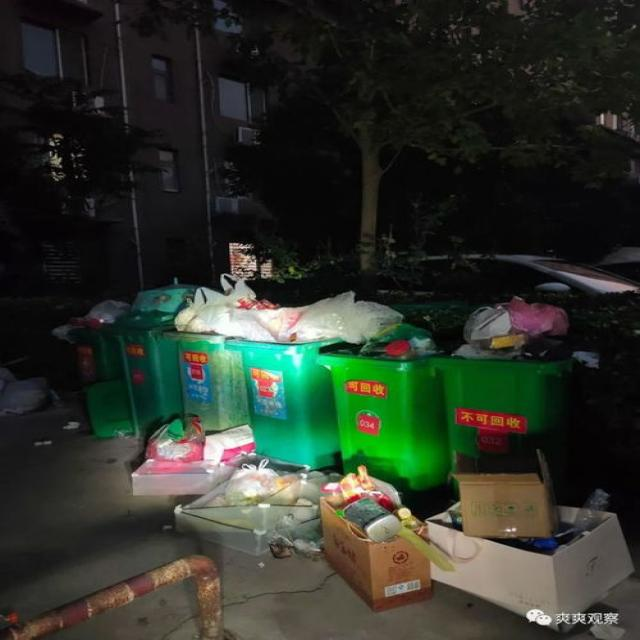garbage: (130, 411, 632, 627)
overflow: (425, 296, 573, 490), (318, 324, 446, 493), (224, 290, 338, 471), (162, 272, 248, 431), (51, 300, 133, 437), (112, 284, 186, 432)
